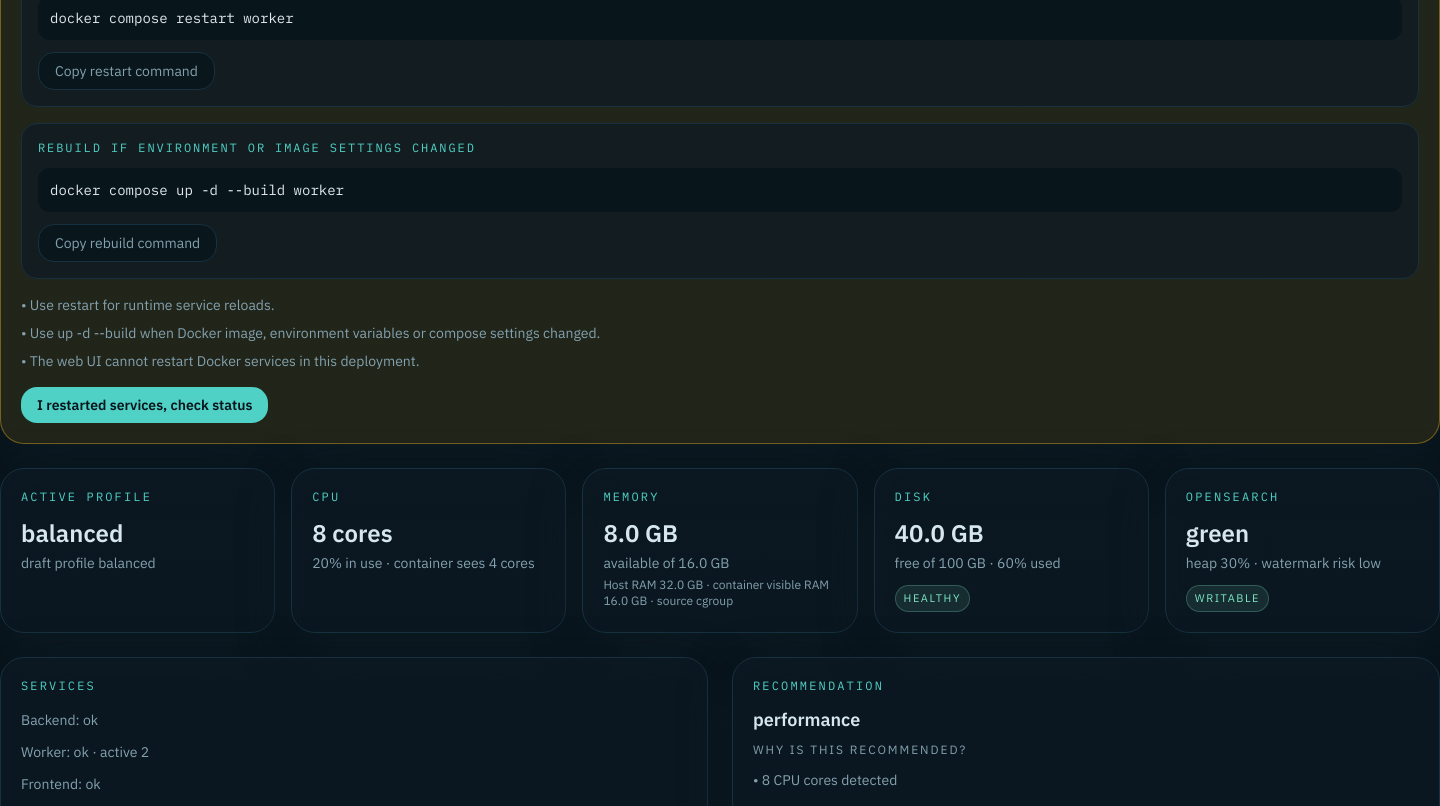
Scenario: SystemPage › refreshes status when checking manual restart
(page scrolled)
What coordinates should you click on to do the following:
click the button "I restarted services, check status"
I would click on:
 (145, 405)
Its box is [21, 387, 268, 423].
(page scrolled)
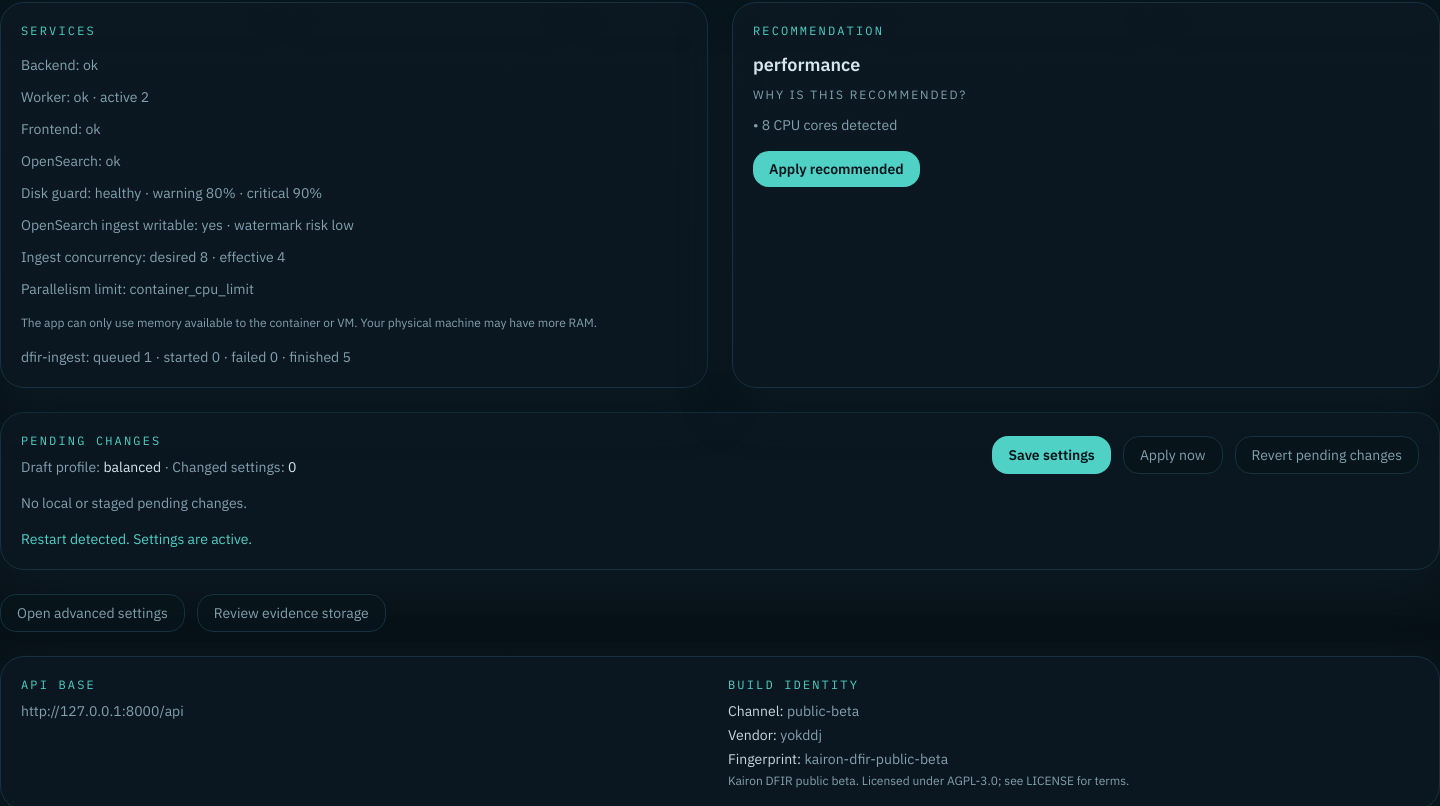
Expected: the text "Restart detected. Settings are active." is shown, [21, 530, 252, 548]
